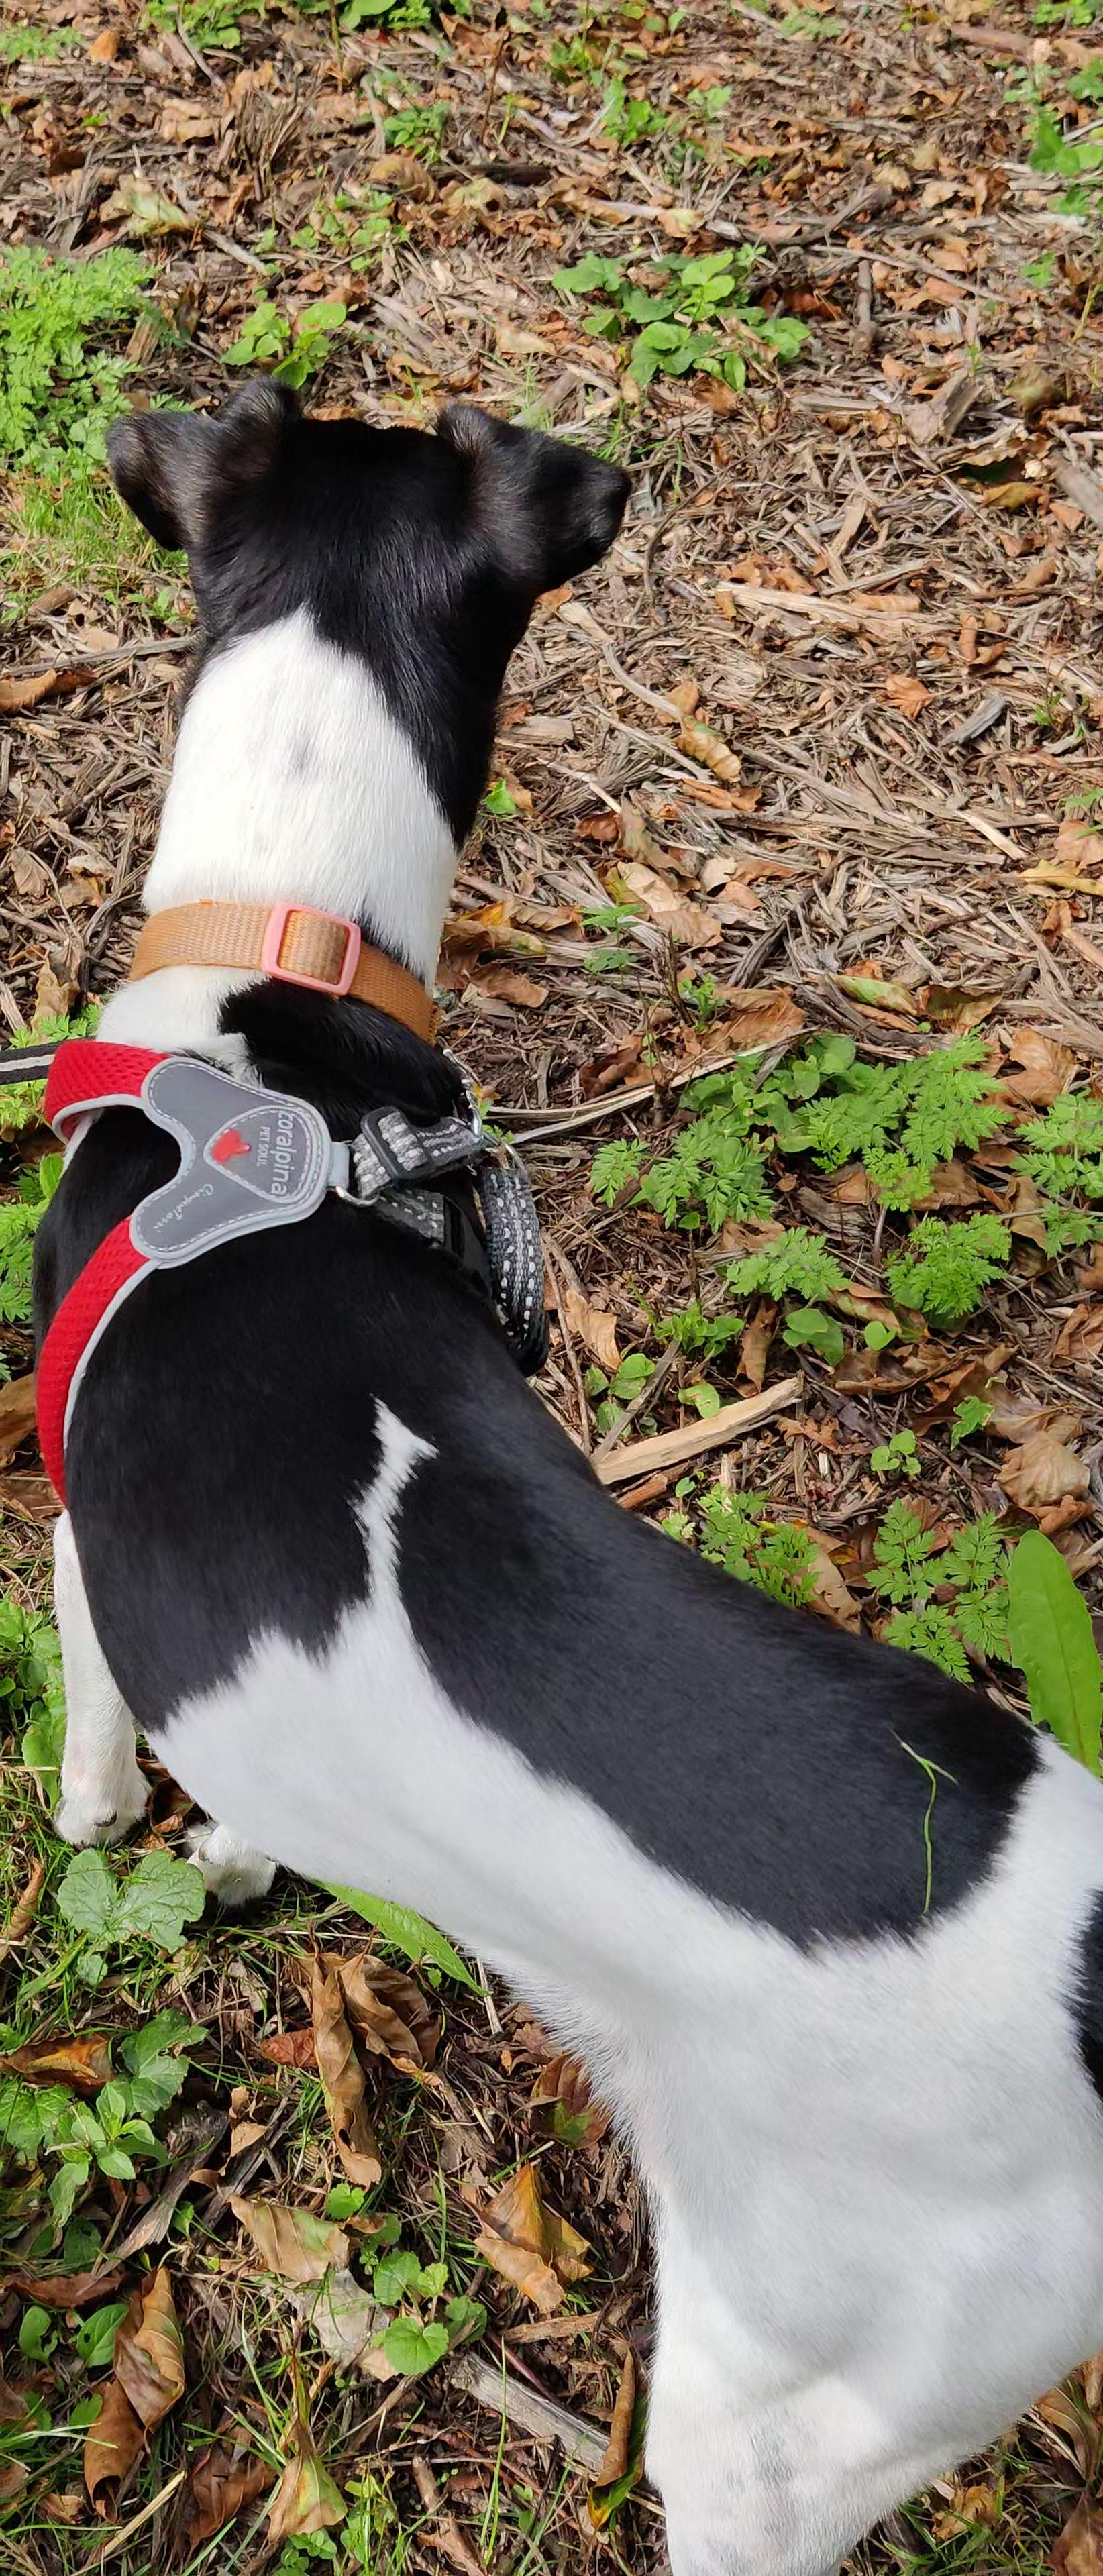Dog: (0, 365, 1103, 2576)
